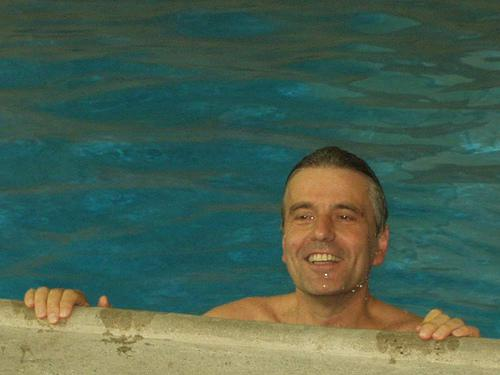swimmer: (198, 142, 484, 339)
